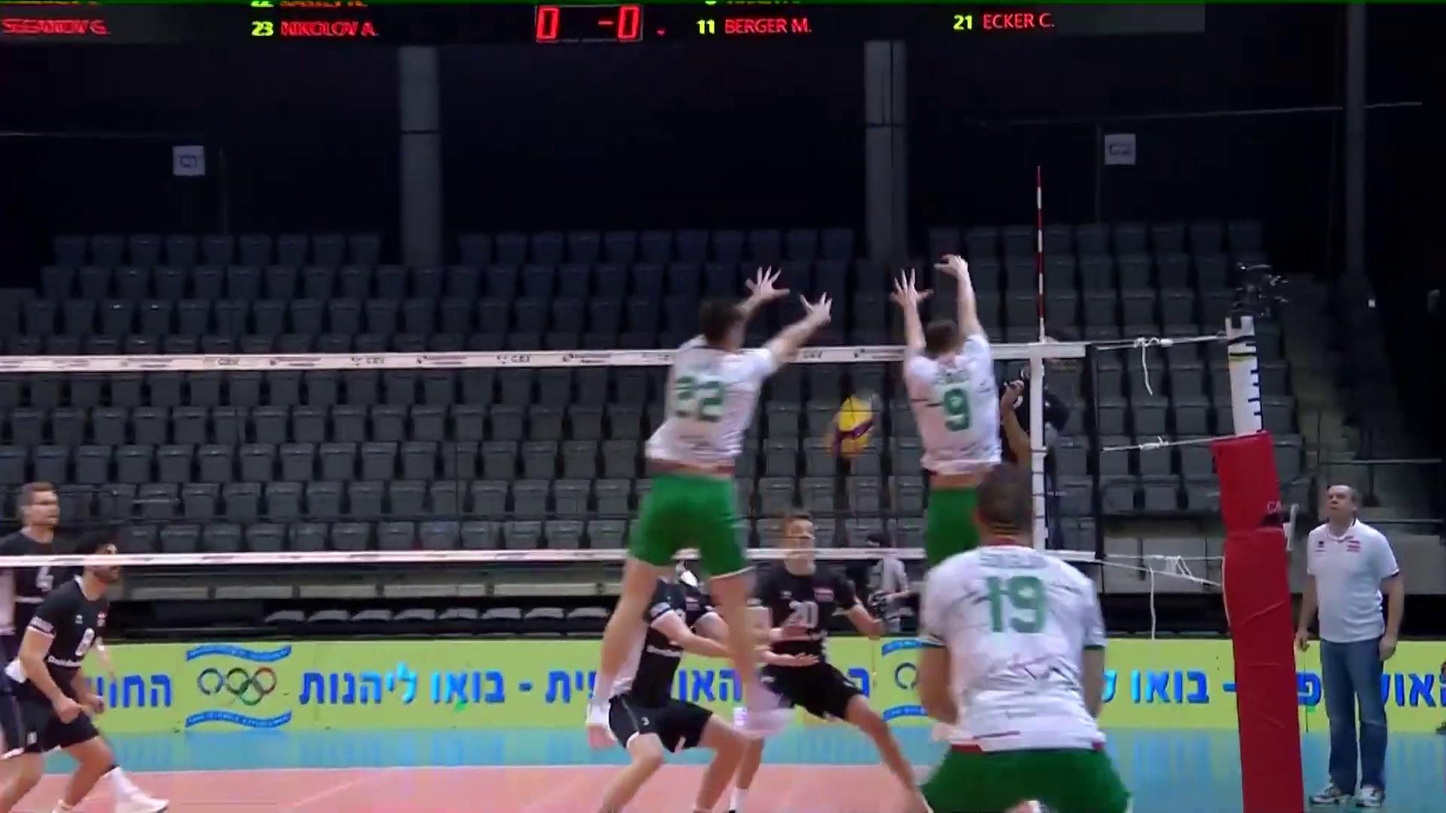ball: (823, 396, 882, 458)
